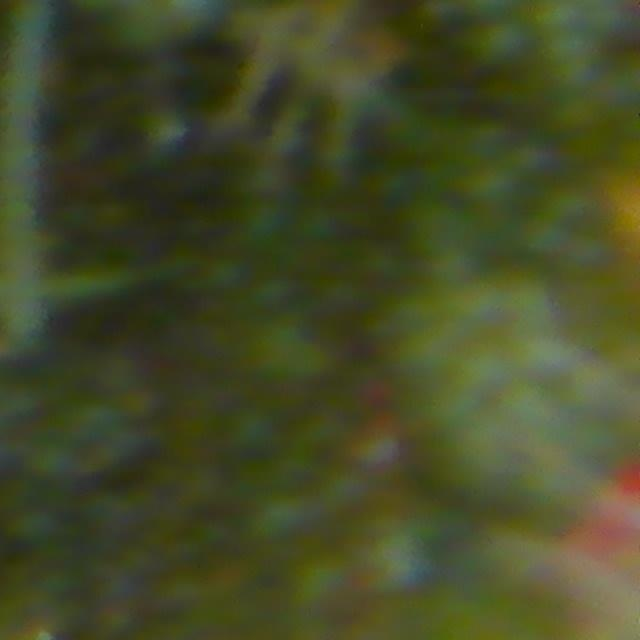SeaGrape: (475, 17, 529, 70), (532, 0, 580, 36)
